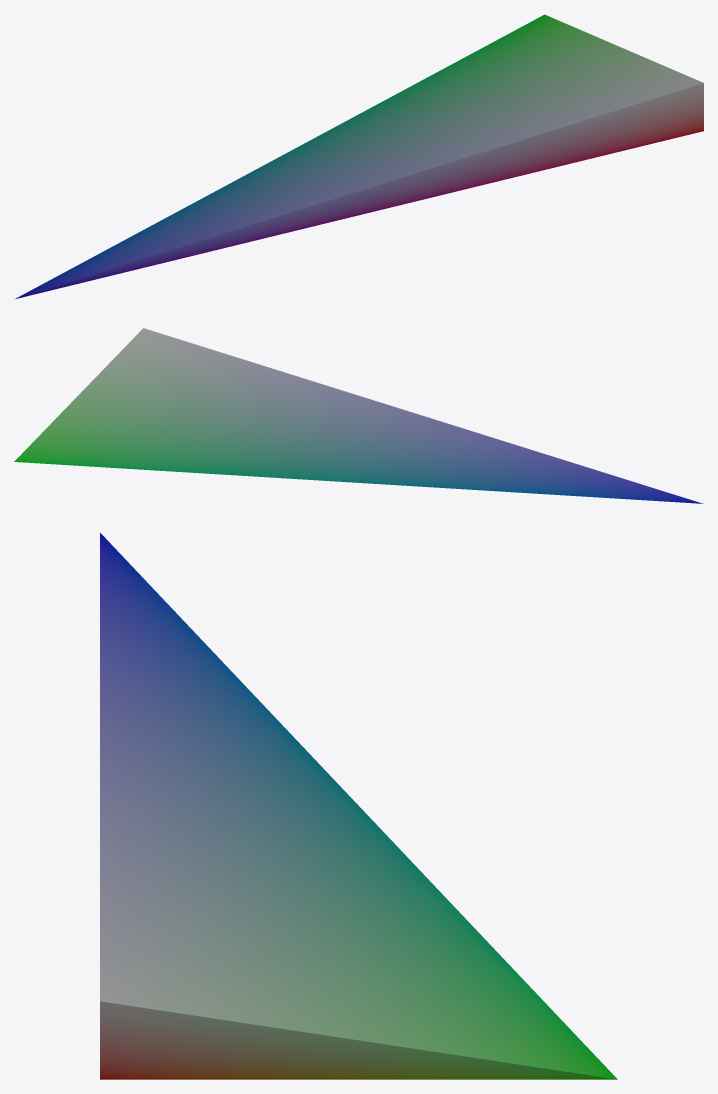
File: nested-negative-nodes-prepared.obj
The picture shows the model from 3 angles, top to bottom: view 1: azimuth 30°, elevation 25°; view 2: azimuth 150°, elevation 25°; view 3: azimuth 270°, elevation 25°; orthographic projection. The views are drawn at different scales.
Size of the model in its own units: 100 by 6.67 by 40.
